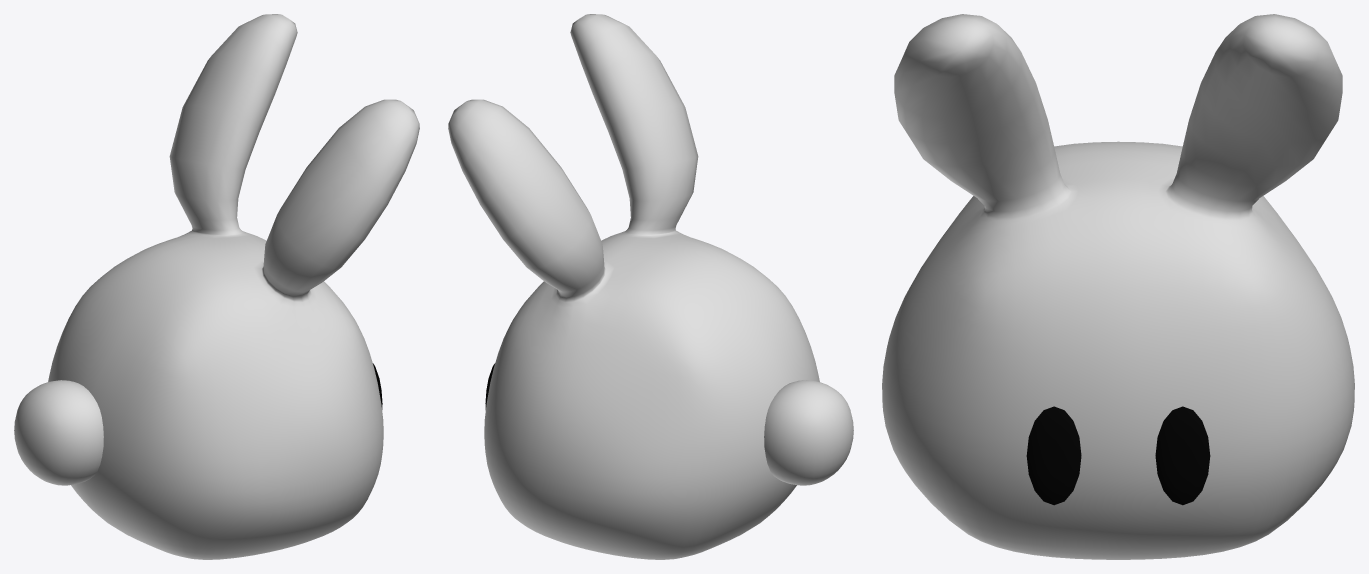
The model's file is rabbit.glb.
3 renders of one model, left to right at view 1: azimuth 30°, elevation 25°; view 2: azimuth 150°, elevation 25°; view 3: azimuth 270°, elevation 25°, orthographic. The views are drawn at different scales.
Visible parts, largest first — view 1: Roundcube, Roundcube.002; view 2: Roundcube, Roundcube.002; view 3: Roundcube, Roundcube.001.
Boxes of the visible parts, <box> form: Roundcube: <box>48,14,419,559</box>; Roundcube.002: <box>14,380,103,485</box>; Roundcube: <box>448,14,819,559</box>; Roundcube.002: <box>764,380,853,485</box>; Roundcube: <box>882,14,1354,559</box>; Roundcube.001: <box>1026,406,1210,505</box>.
Size of the model in its own units: 1.72 by 2.19 by 1.61.
Materials: 1 (1 with a texture image).
